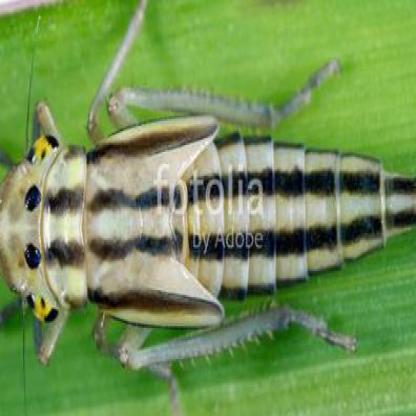Green-Leafhopper: (0, 5, 416, 410)
